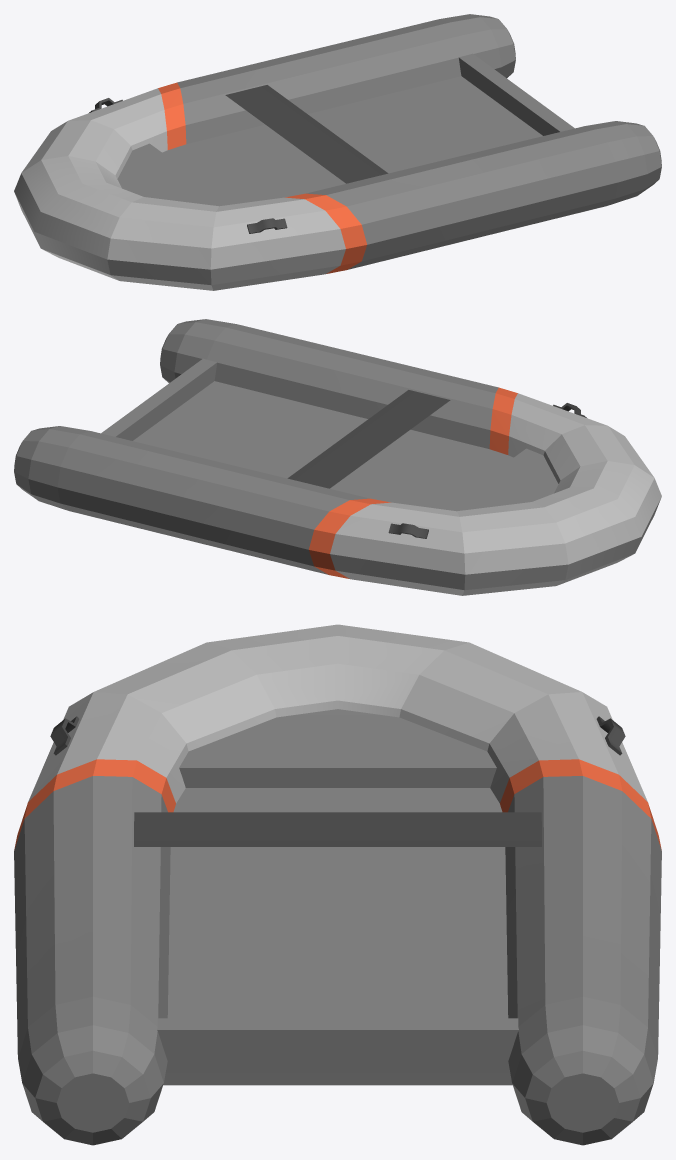
The model's file is fisher_9.FBX.
3 views of the same model, one above another, from view 1: azimuth 30°, elevation 25°; view 2: azimuth 150°, elevation 25°; view 3: azimuth 270°, elevation 25° (orthographic). The views are drawn at different scales.
Visible parts, largest first — view 1: fisher_9; view 2: fisher_9; view 3: fisher_9.
Part boxes in pixels (x1,y1,x2,y2): fisher_9: [14, 14, 661, 290]; fisher_9: [14, 319, 661, 595]; fisher_9: [14, 624, 661, 1145].
Size of the model in its own units: 199 by 25.68 by 123.
